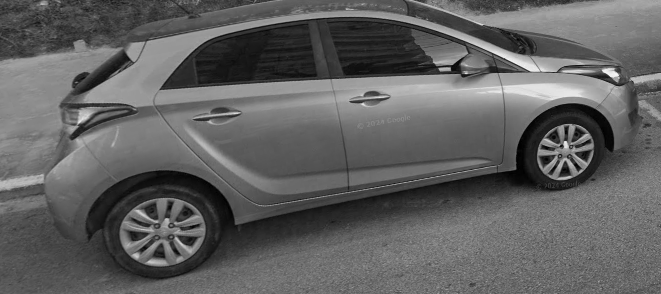car: (43, 4, 639, 276)
